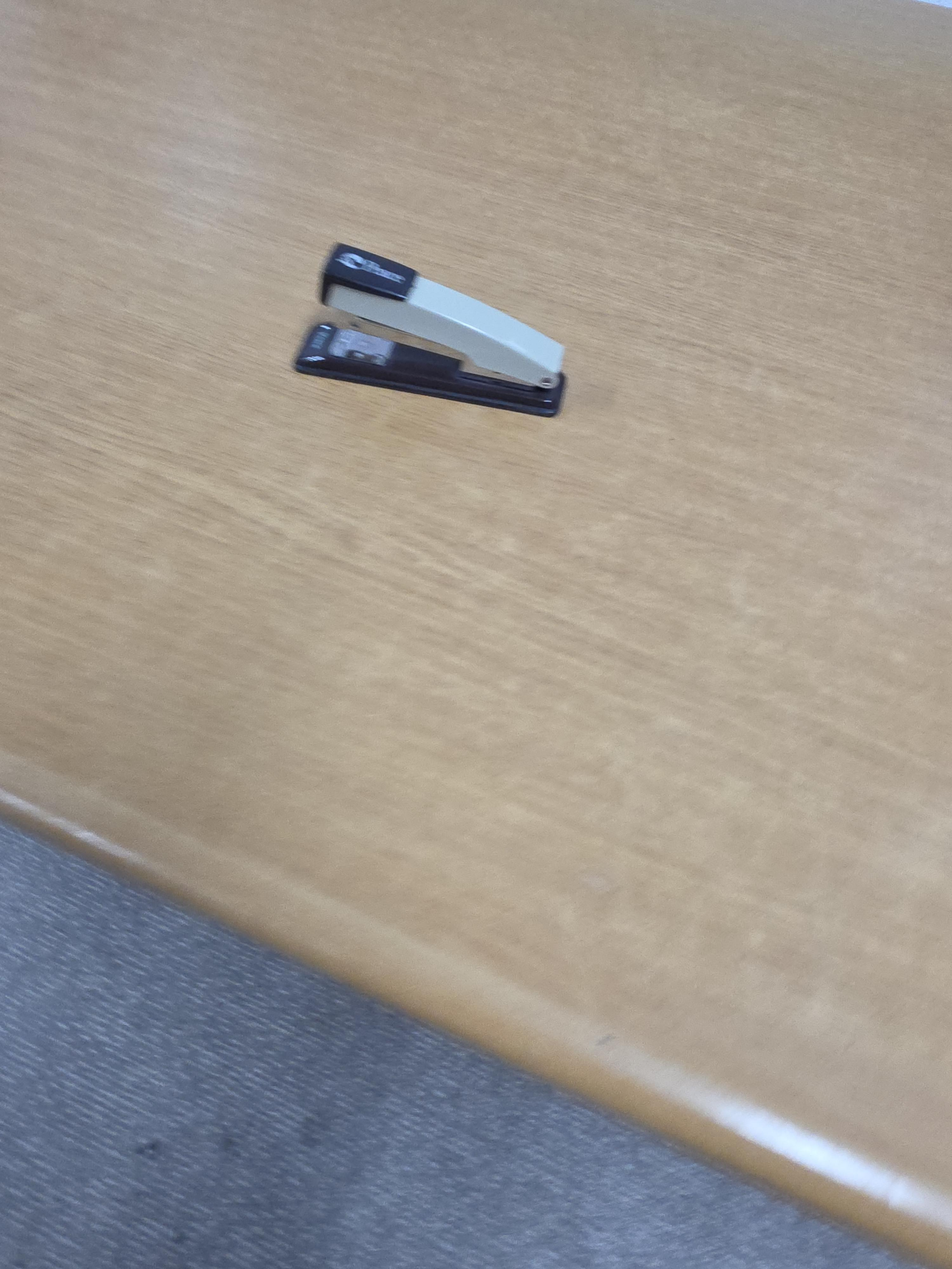stapler: (291, 241, 568, 418)
